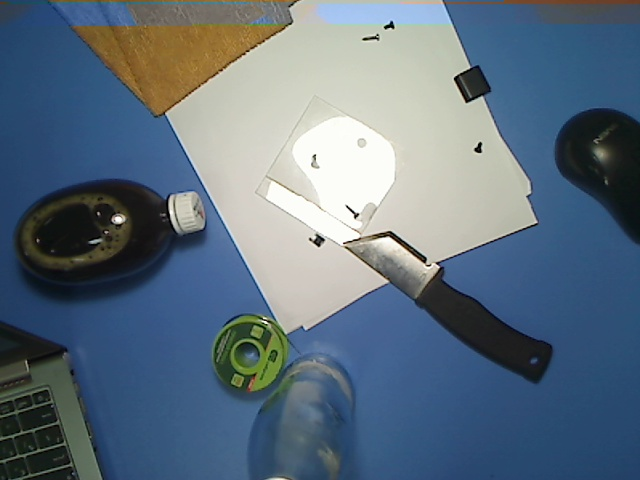plast_bottle: (10, 166, 211, 292)
